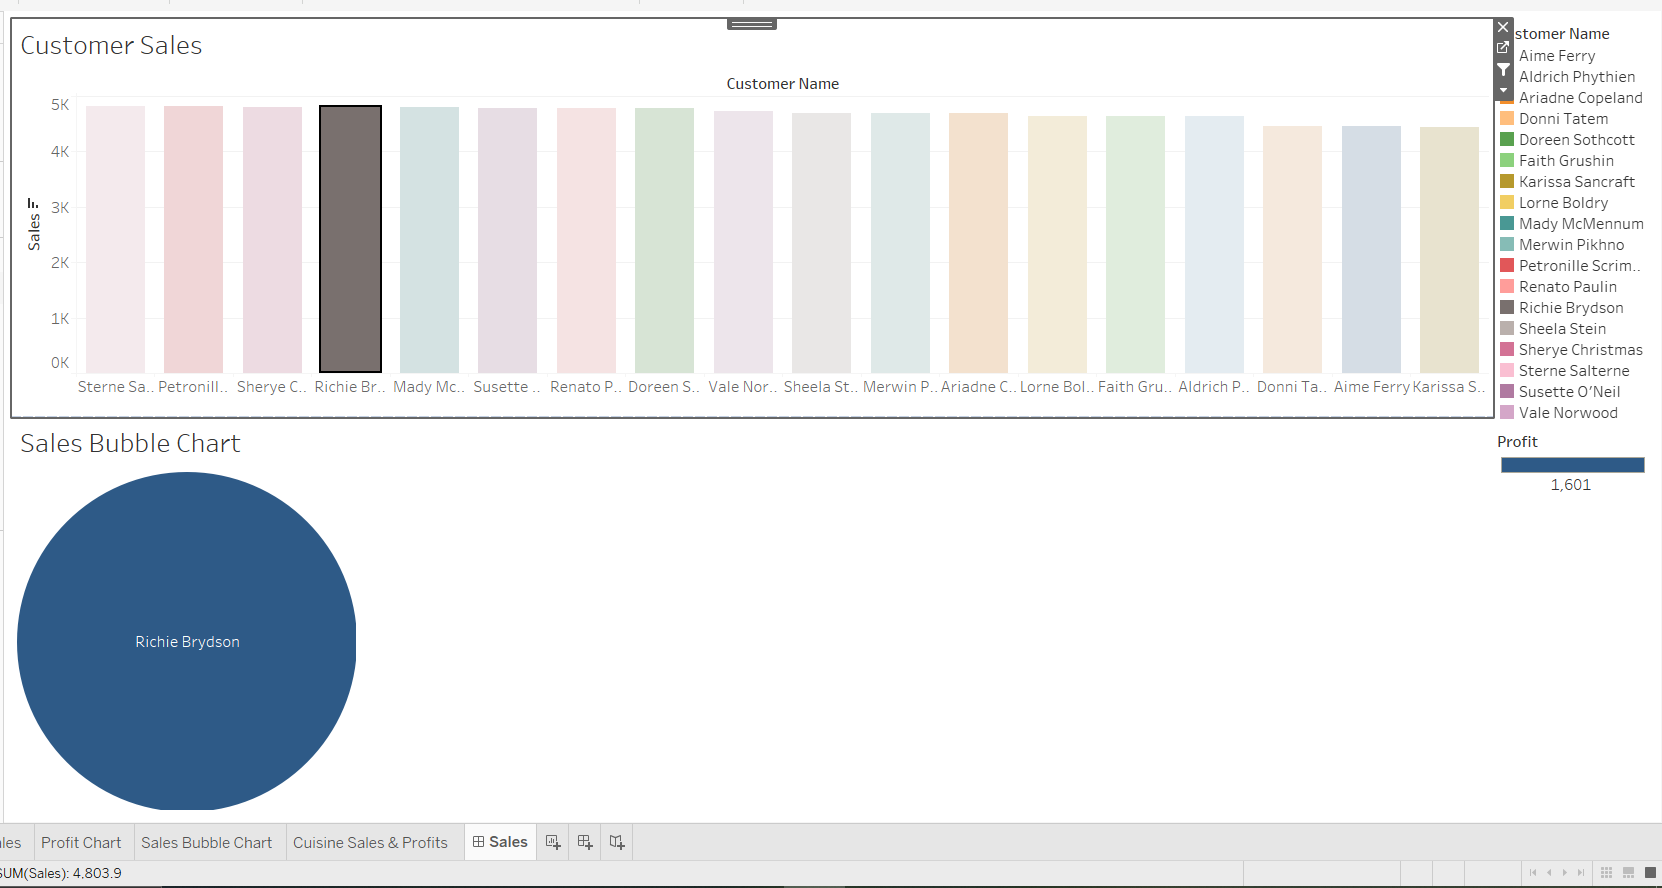

This screenshot's page, from the dashboard's own definition file:
{"tool":"tableau","page":{"name":"Sales","canvas":[1000,1000],"units":"permille","ordinal":0},"visuals":[{"type":"worksheet","title":"Customer Sales","mark":"Automatic","rows":["Sales"],"cols":["Customer Name"],"box":[4.8,9.9,893.8,490.1]},{"type":"legend","title":"Customer Sales","param":"[federated.0e4d1lr1ecdnsd131buok0qglv29].[none:Customer Name:nk]","box":[898.6,9.9,96.6,503.1]},{"type":"worksheet","title":"Sales Bubble Chart","mark":"Circle","box":[4.8,500,893.8,490.1]},{"type":"legend","title":"Sales Bubble Chart","param":"[federated.0e4d1lr1ecdnsd131buok0qglv29].[sum:Calculation_1499417230324711424:qk","box":[898.6,512.9,96.6,90]}]}

Visuals, with their boxes on the dashboard's canvas, which has no fixed pixel size, in thousandths of its width and height (x1, y1, x2, y2). These are canvas units, not pixel positions in the 1662x888 screenshot, which may show the page scaled, cropped or inside an application window:
"Customer Sales" worksheet: locate(5, 10, 899, 500)
"Customer Sales" legend: locate(899, 10, 995, 513)
"Sales Bubble Chart" worksheet (Circle marks): locate(5, 500, 899, 990)
"Sales Bubble Chart" legend: locate(899, 513, 995, 603)
